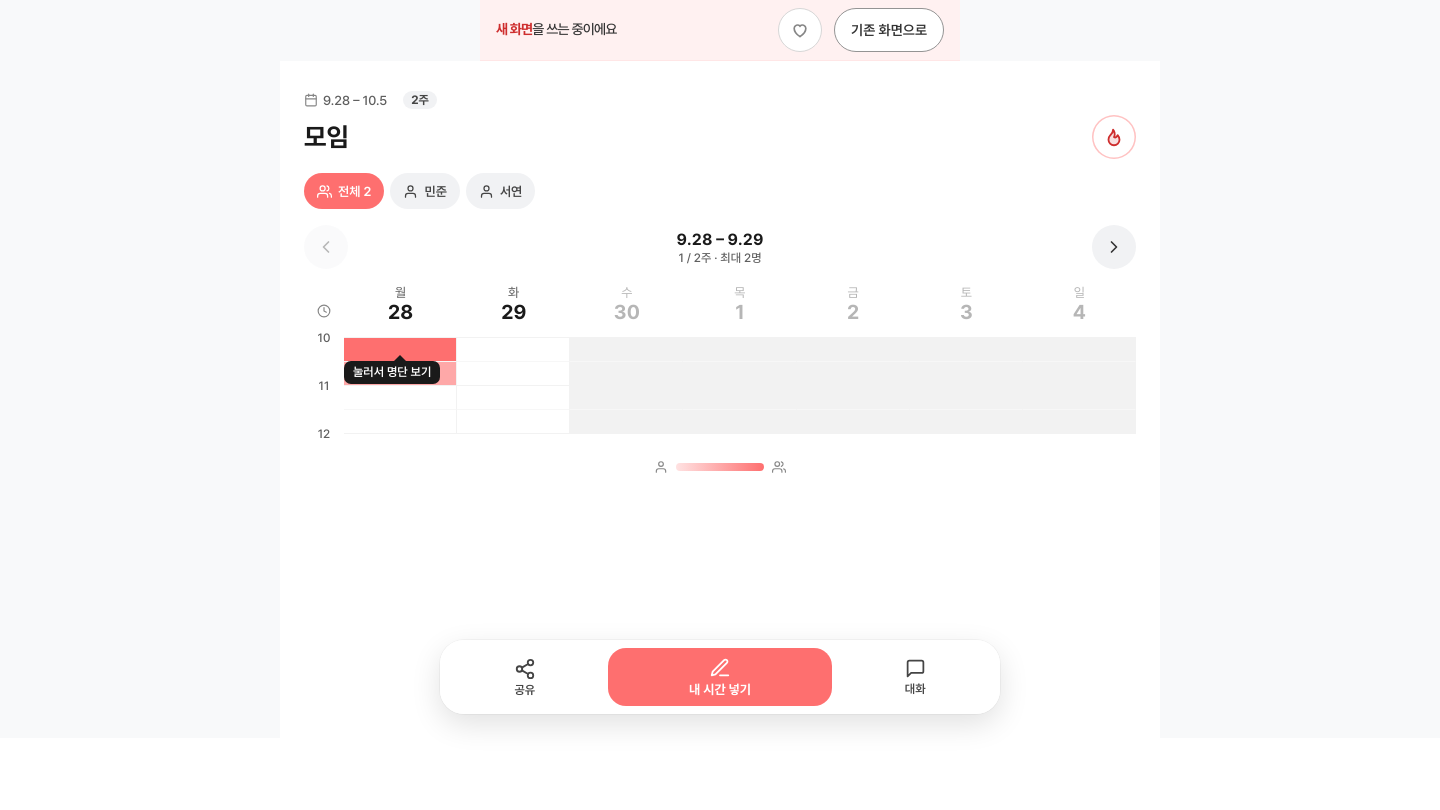
Test case: 보기 › 골든 버튼: ranking_open에 B가 붙고, 줄을 누르면 그 칸 명단이 열린다
The width and height of the screenshot is (1440, 810).
Expected: the heading "모임" is shown, [304,122,349,152]
Click the button named "가장 많이 모이는 시간 9월 28일": {"x": 1114, "y": 137} [1092,115,1136,159]
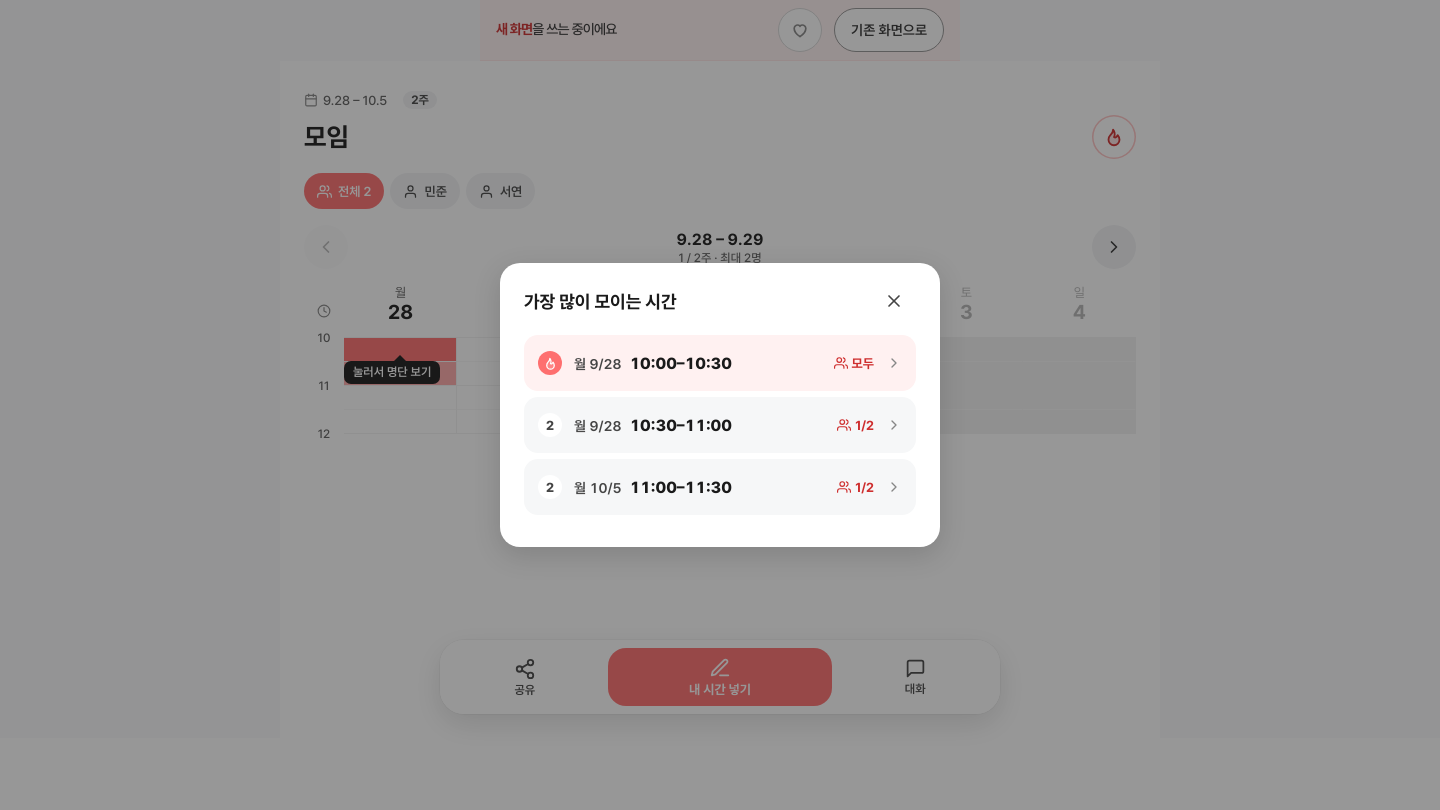
Now the button with aria-label "1위 9월 28일" is shown, box [524,335,916,391]
Now the number of buttons named "2위" is 2
Click the button named "2위 10월 5일": {"x": 720, "y": 487} [524,459,916,515]
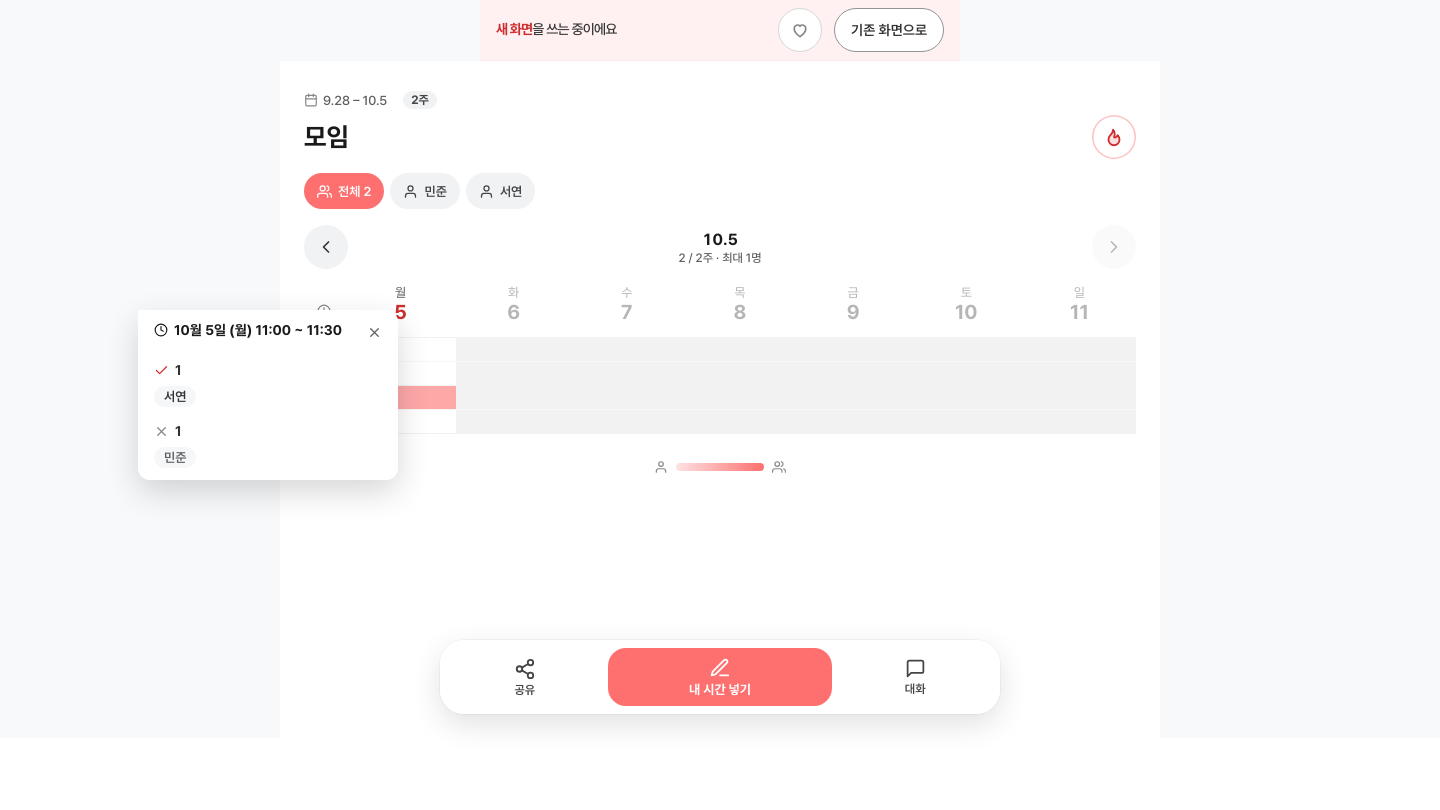
Now the dialog named "이 시간 참여 명단" shows "10월 5일 (월) 11:00 ~ 11:30", box [174,322,342,338]
Now the text "2 / 2주 · 최대 1명" is shown, box [678,250,762,264]
